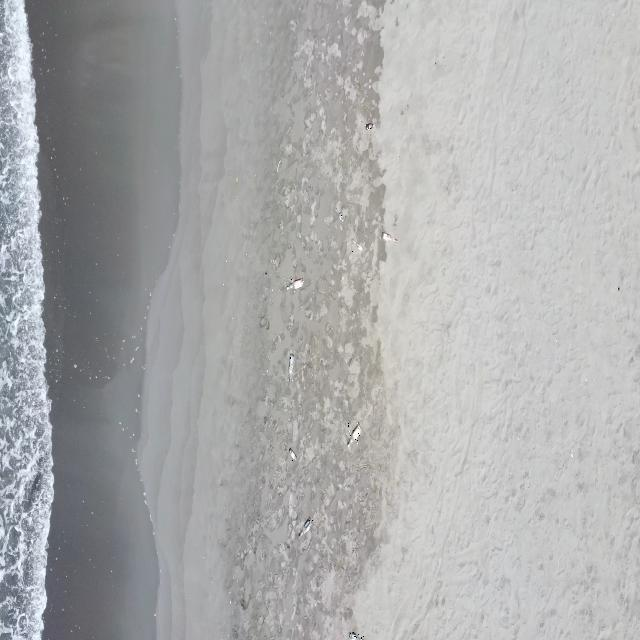glass: (347, 422, 362, 448), (298, 518, 313, 541), (287, 278, 304, 292), (288, 353, 295, 383), (381, 232, 398, 244), (352, 239, 364, 252), (288, 448, 298, 462), (349, 632, 364, 640), (365, 122, 375, 131), (339, 212, 344, 224)
